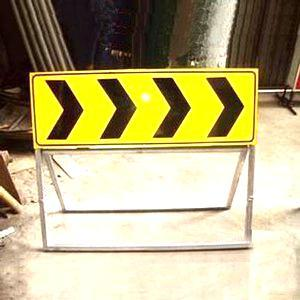sign: (27, 72, 259, 147)
